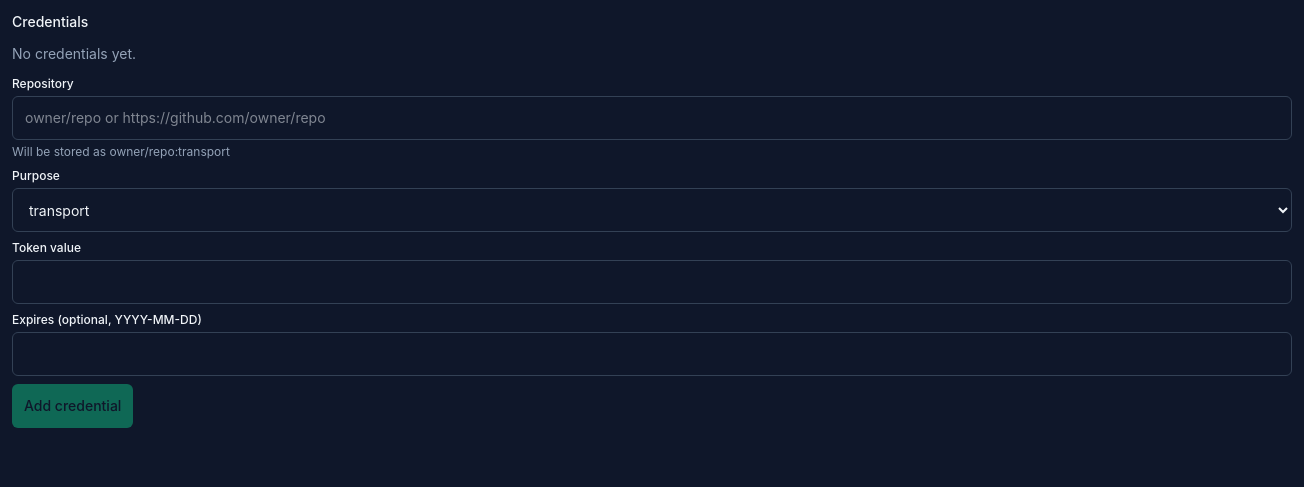
CredentialsSection › adds a credential: submits engine/purpose/value/expires_at, clears the input, and refetches the list
Expected: the text "No credentials yet." is shown, x1=12 y1=45 x2=136 y2=62
Type "acme/widget" into the field with test id "credential-engine-input" at (652, 118), box x1=12 y1=96 x2=1292 y2=140
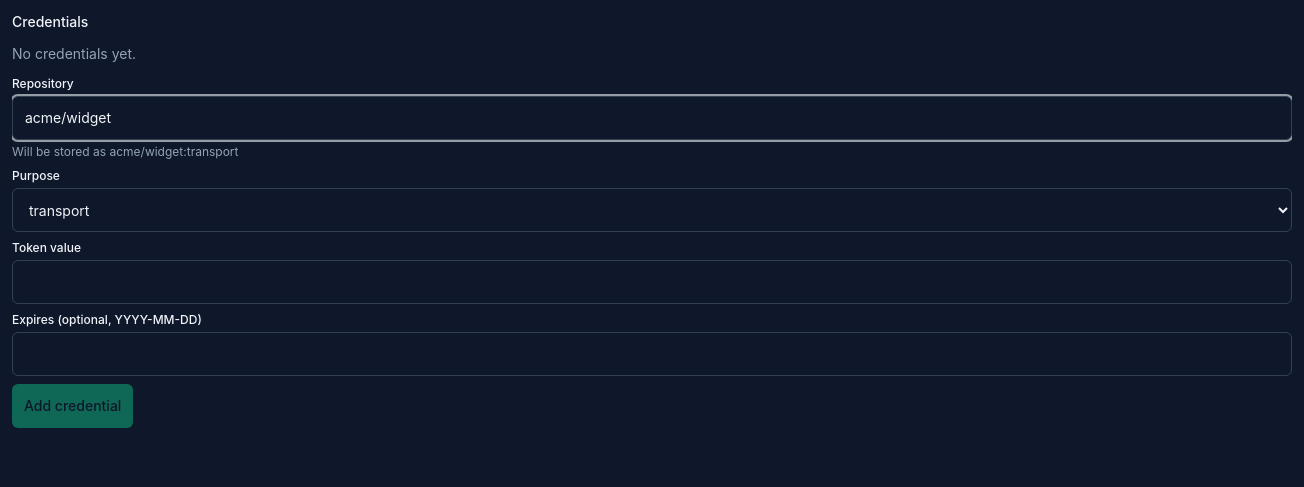
Type "ghp_supersecret" into the password field with test id "credential-value-input" at (652, 282), box x1=12 y1=260 x2=1292 y2=304
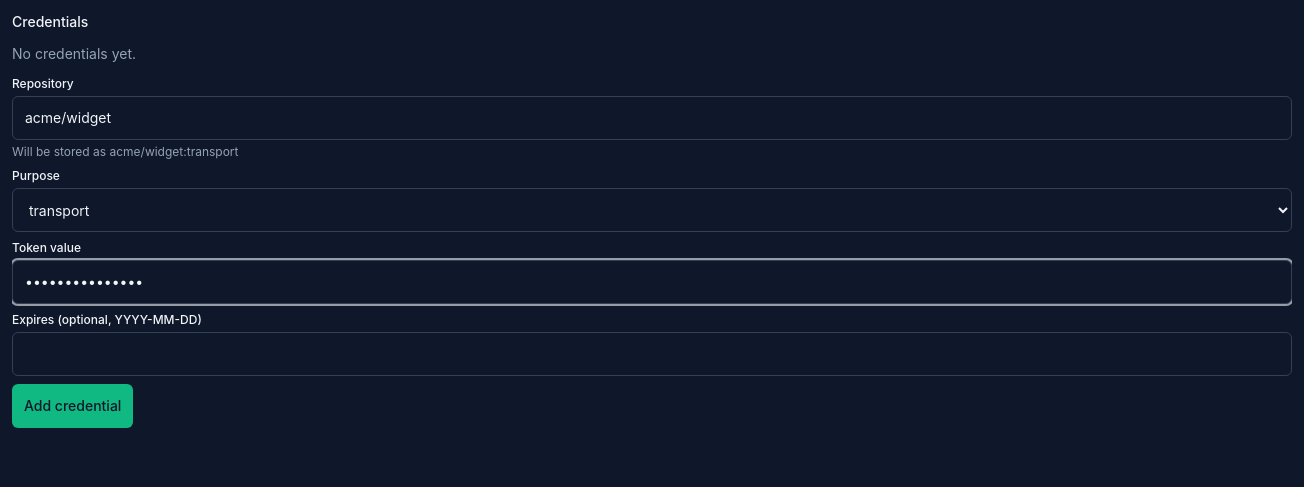
Type "2027-01-01" into the field with test id "credential-expires-input" at (652, 354), box x1=12 y1=332 x2=1292 y2=376
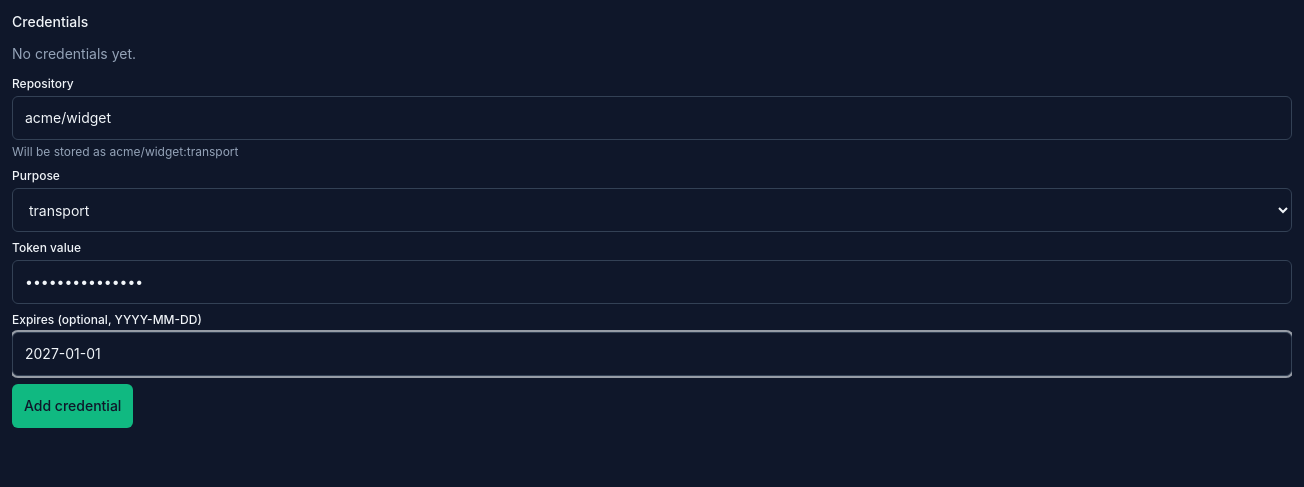
Click the button with test id "credential-submit" at (73, 406), box x1=12 y1=384 x2=133 y2=428
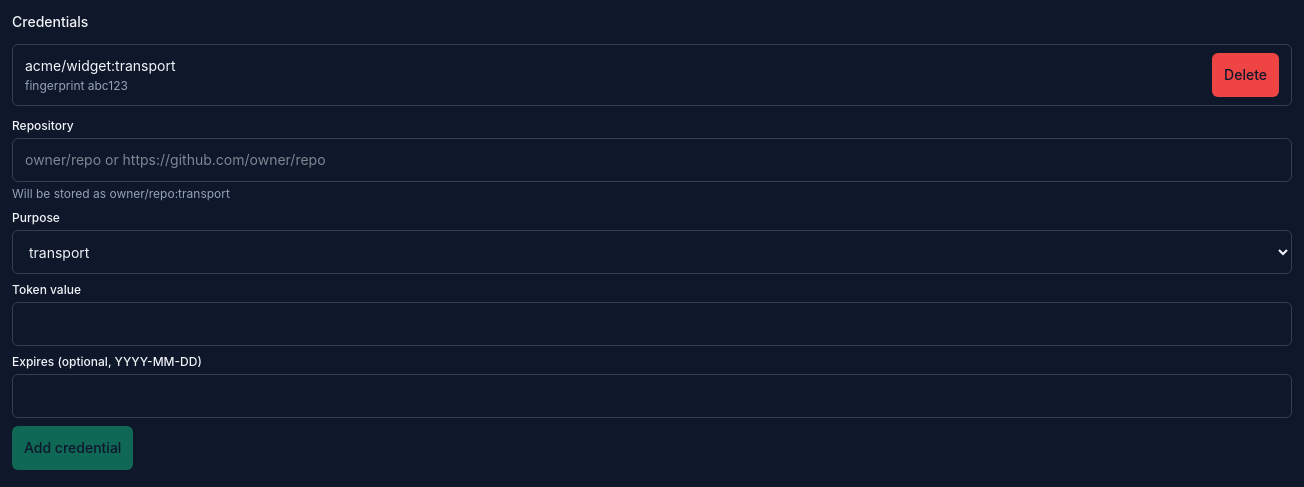
Expected: the list item with test id "credential-row-acme/widget:transport" is shown, x1=12 y1=44 x2=1292 y2=106
Expected: the password field with test id "credential-value-input" is empty, x1=12 y1=302 x2=1292 y2=346
